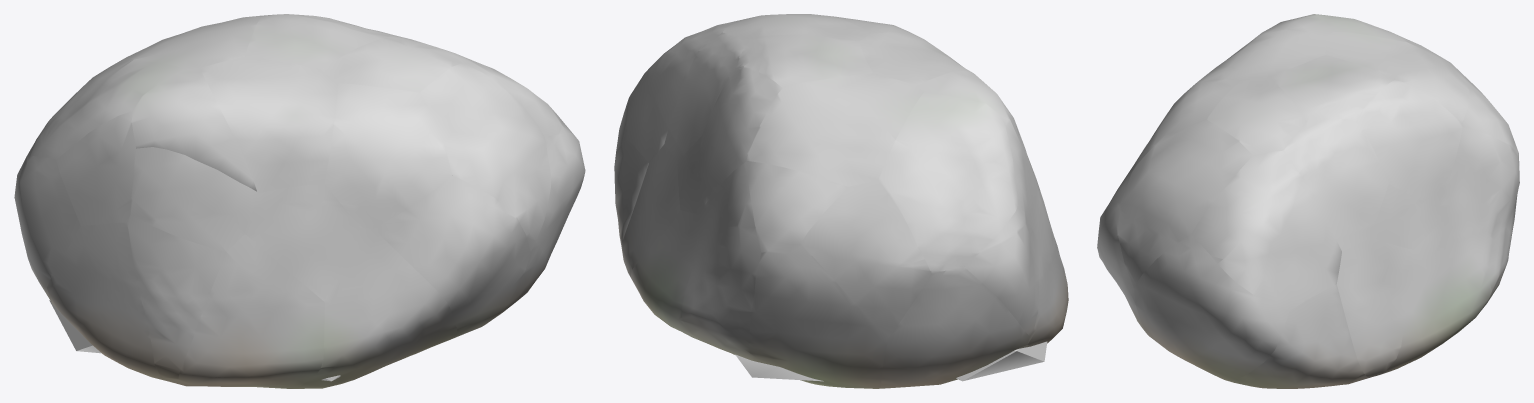
Rendered from rock_v8.glb.
3 views of the same model, side by side, from view 1: azimuth 30°, elevation 25°; view 2: azimuth 150°, elevation 25°; view 3: azimuth 270°, elevation 25° (orthographic). The views are drawn at different scales.
Visible parts, largest first — view 1: Chunk_07, Chunk_10, Chunk_02, Chunk_23, Chunk_28, Chunk_18, Chunk_04, Chunk_20, Chunk_12, Chunk_15, Chunk_25, Chunk_17 (+8 smaller); view 2: Chunk_22, Chunk_06, Chunk_27, Chunk_14, Chunk_01, Chunk_11, Chunk_24, Chunk_19, Chunk_29, Chunk_09, Chunk_13, Chunk_03 (+12 smaller); view 3: Chunk_13, Chunk_05, Chunk_18, Chunk_24, Chunk_21, Chunk_11, Chunk_03, Chunk_08, Chunk_00, Chunk_27, Chunk_29, Chunk_26 (+7 smaller).
Part boxes in pixels (left/top/right/bottom): Chunk_07: left=178, top=234, right=324, bottom=388; Chunk_10: left=374, top=175, right=530, bottom=338; Chunk_02: left=290, top=227, right=457, bottom=388; Chunk_23: left=324, top=83, right=451, bottom=228; Chunk_28: left=199, top=56, right=337, bottom=193; Chunk_18: left=420, top=63, right=550, bottom=251; Chunk_04: left=47, top=222, right=177, bottom=383; Chunk_20: left=130, top=147, right=257, bottom=251; Chunk_12: left=127, top=215, right=226, bottom=386; Chunk_15: left=245, top=183, right=360, bottom=301; Chunk_25: left=131, top=68, right=256, bottom=191; Chunk_17: left=56, top=111, right=135, bottom=225; Chunk_22: left=878, top=92, right=1018, bottom=273; Chunk_06: left=749, top=243, right=888, bottom=388; Chunk_27: left=746, top=73, right=923, bottom=186; Chunk_14: left=801, top=180, right=931, bottom=337; Chunk_01: left=880, top=266, right=1029, bottom=388; Chunk_11: left=682, top=163, right=761, bottom=361; Chunk_24: left=699, top=66, right=782, bottom=206; Chunk_19: left=745, top=161, right=848, bottom=252; Chunk_29: left=736, top=34, right=872, bottom=87; Chunk_09: left=964, top=206, right=1038, bottom=336; Chunk_13: left=626, top=23, right=734, bottom=163; Chunk_03: left=630, top=210, right=734, bottom=354; Chunk_13: left=1191, top=150, right=1341, bottom=310; Chunk_05: left=1134, top=234, right=1289, bottom=380; Chunk_18: left=1118, top=119, right=1252, bottom=287; Chunk_24: left=1356, top=80, right=1462, bottom=209; Chunk_21: left=1284, top=119, right=1388, bottom=251; Chunk_11: left=1443, top=126, right=1519, bottom=304; Chunk_03: left=1383, top=217, right=1491, bottom=373; Chunk_08: left=1337, top=237, right=1413, bottom=377; Chunk_00: left=1224, top=284, right=1369, bottom=388; Chunk_27: left=1325, top=31, right=1469, bottom=123; Chunk_29: left=1269, top=55, right=1393, bottom=121; Chunk_26: left=1207, top=76, right=1306, bottom=155.
Size of the model in its own units: 2.72 by 1.51 by 2.25.
